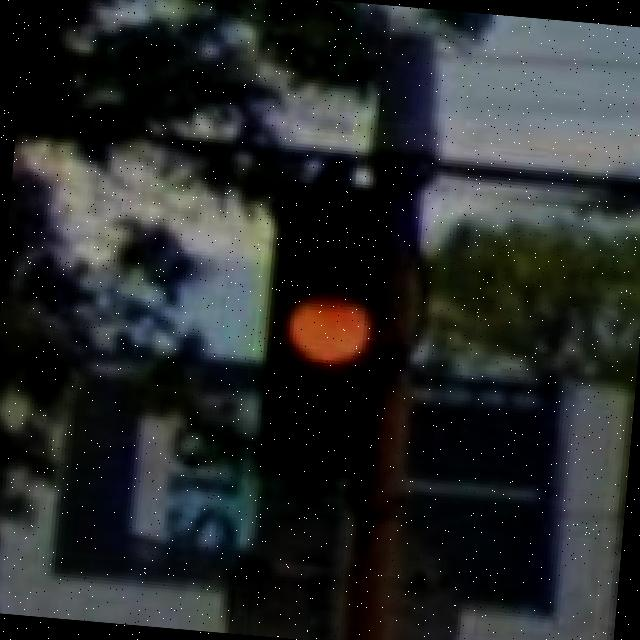Zolte swiatlo: (253, 182, 400, 478)
